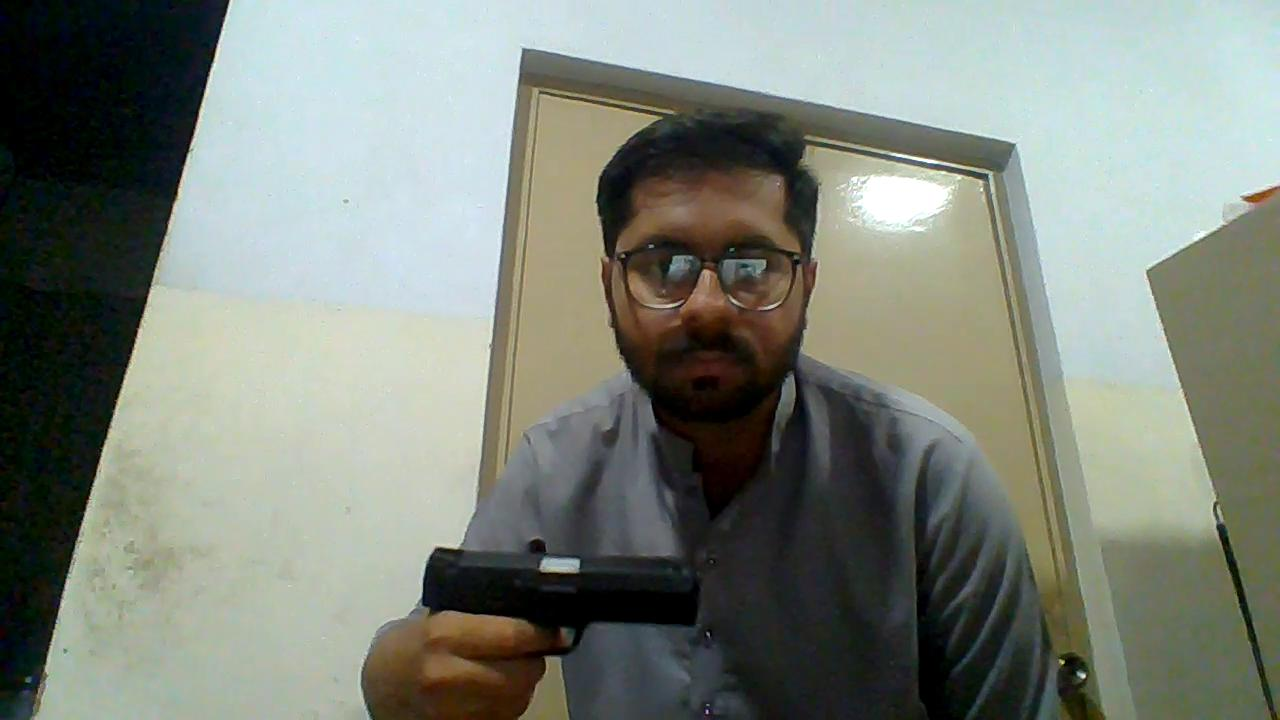criminal: (360, 103, 1059, 720)
weapon: (420, 544, 709, 662)
